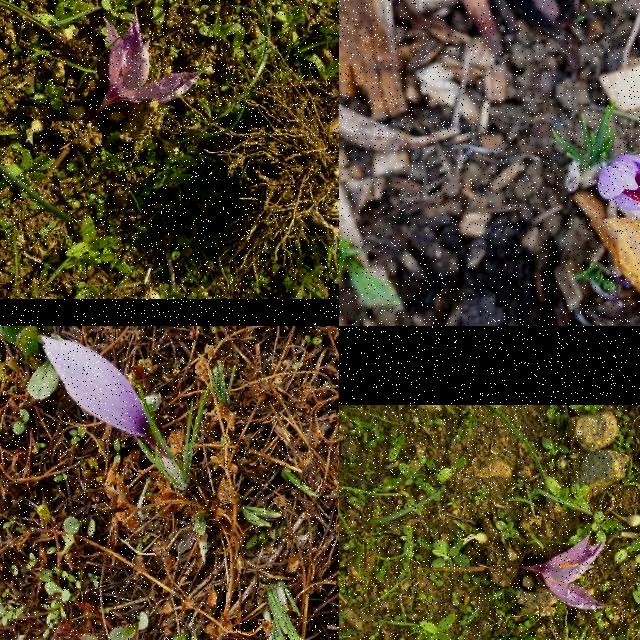flower: (41, 335, 153, 439), (105, 20, 198, 104), (523, 534, 607, 610), (597, 155, 640, 211)
